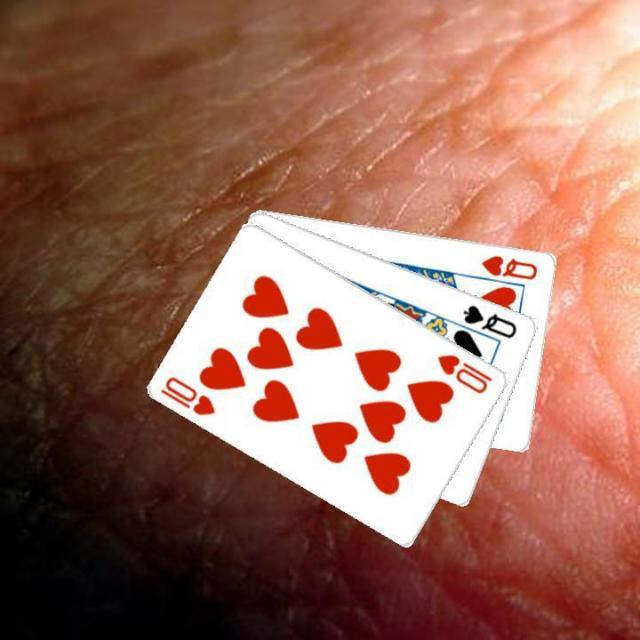10H: (157, 372, 218, 418), (434, 350, 494, 396)
QH: (478, 251, 540, 281)
QS: (460, 300, 520, 340)
